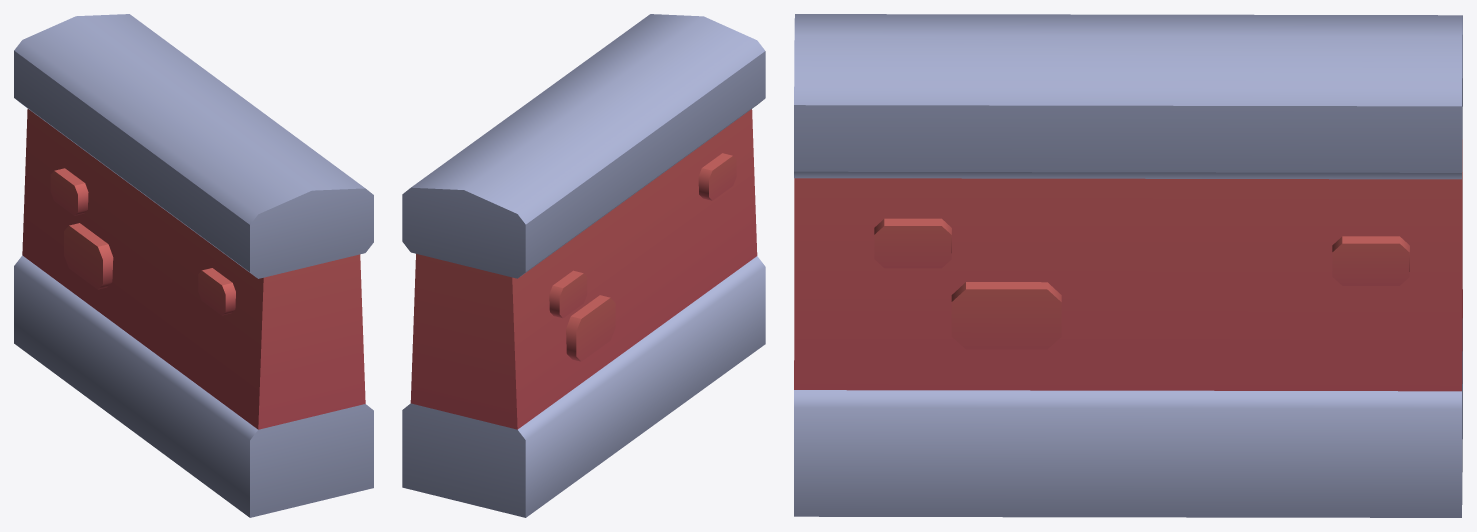
The model's file is brick-wall.061_lev2.glb.
3 renders of one model, left to right at view 1: azimuth 30°, elevation 25°; view 2: azimuth 150°, elevation 25°; view 3: azimuth 270°, elevation 25°, orthographic. The views are drawn at different scales.
Parts seen in each view (by area): view 1: brick-wall.061_lev2; view 2: brick-wall.061_lev2; view 3: brick-wall.061_lev2.
Boxes of the visible parts, x1,y1,x2,y2 form: brick-wall.061_lev2: (14, 14, 373, 517); brick-wall.061_lev2: (402, 14, 765, 517); brick-wall.061_lev2: (794, 14, 1462, 517).
Size of the model in its own units: 2.43 by 5.8 by 8.01.
1 material, 1 textured.
